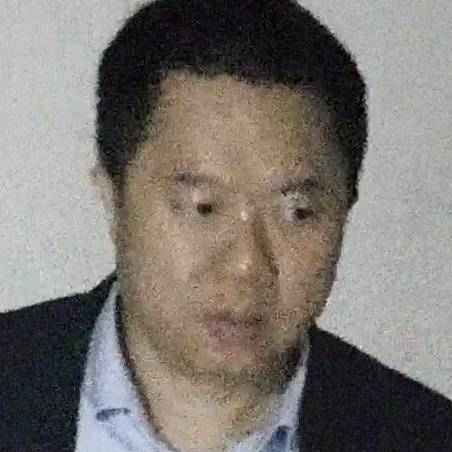cb: (91, 48, 394, 351)
